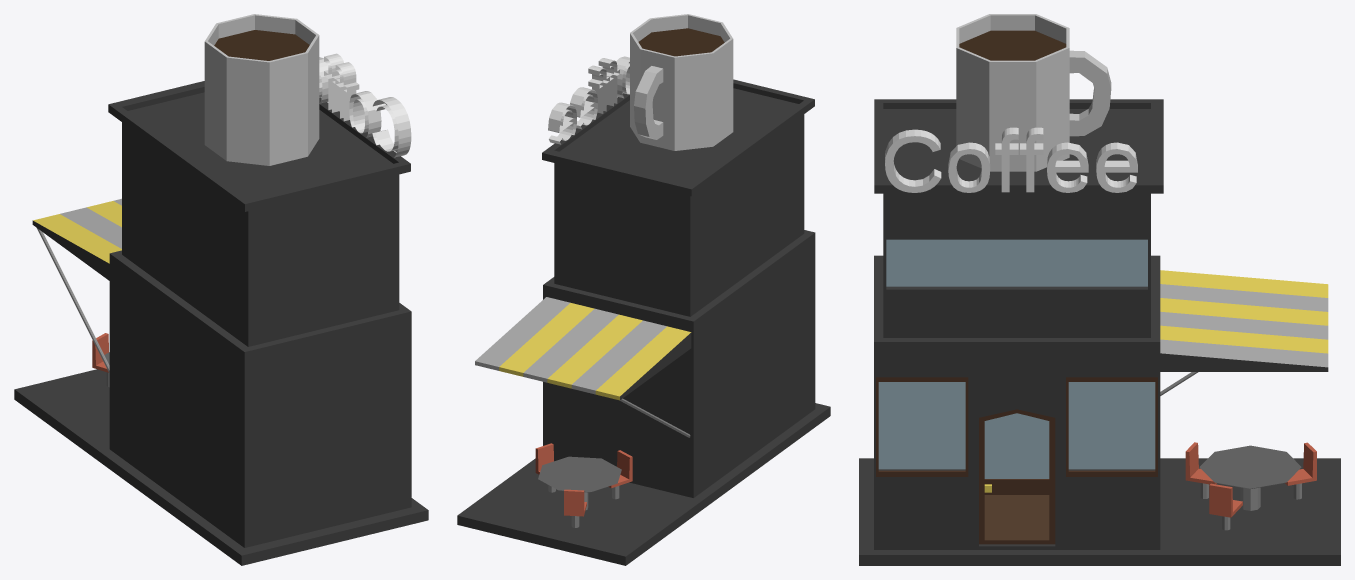
The model's file is coffe-mp.glb.
3 views of the same model, side by side, from view 1: azimuth 30°, elevation 25°; view 2: azimuth 150°, elevation 25°; view 3: azimuth 270°, elevation 25° (orthographic). The views are drawn at different scales.
Parts seen in each view (by area): view 1: coffe-mp; view 2: coffe-mp; view 3: coffe-mp.
Part boxes in pixels (bbox=[...]): coffe-mp: bbox=[14, 14, 428, 565]; coffe-mp: bbox=[457, 14, 830, 565]; coffe-mp: bbox=[859, 14, 1340, 565].
Size of the model in its own units: 2.97 by 6.87 by 6.26.
1 material, 1 textured.
